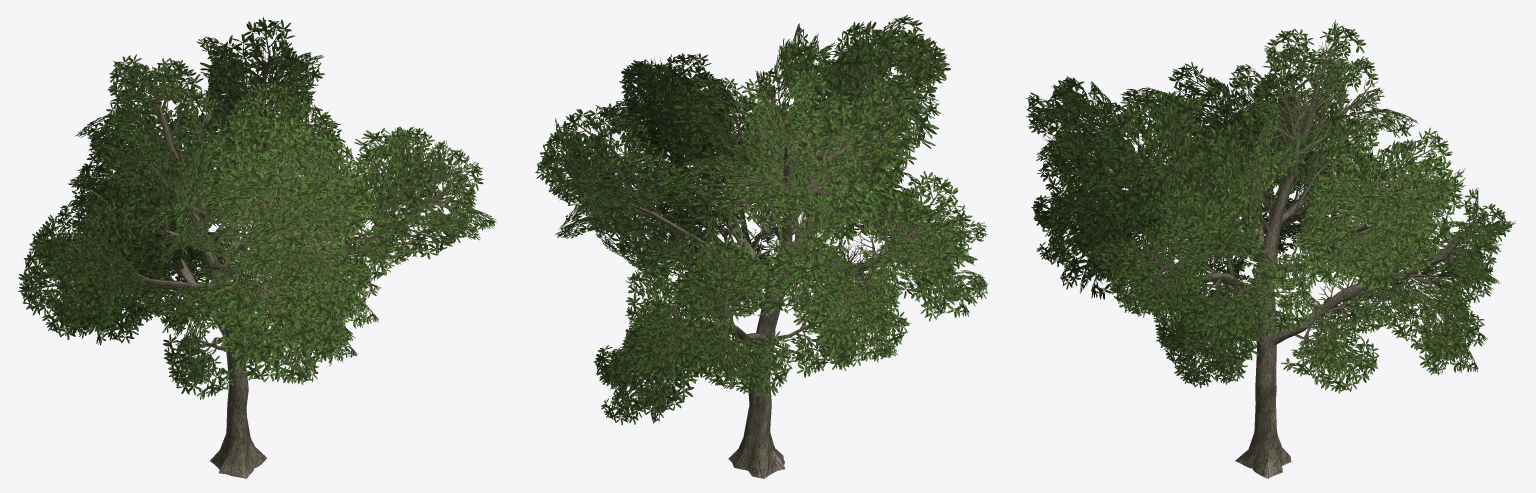
The model's file is tree_mango_02.fbx.
3 renders of one model, left to right at view 1: azimuth 30°, elevation 25°; view 2: azimuth 150°, elevation 25°; view 3: azimuth 270°, elevation 25°, orthographic. The views are drawn at different scales.
Visible parts, largest first — view 1: tree_mango_02; view 2: tree_mango_02; view 3: tree_mango_02.
Part boxes in pixels (x1,y1,x2,y2): tree_mango_02: (18, 17, 496, 478); tree_mango_02: (535, 15, 988, 478); tree_mango_02: (1026, 19, 1515, 478).
Size of the model in its own units: 344 by 350 by 320.
